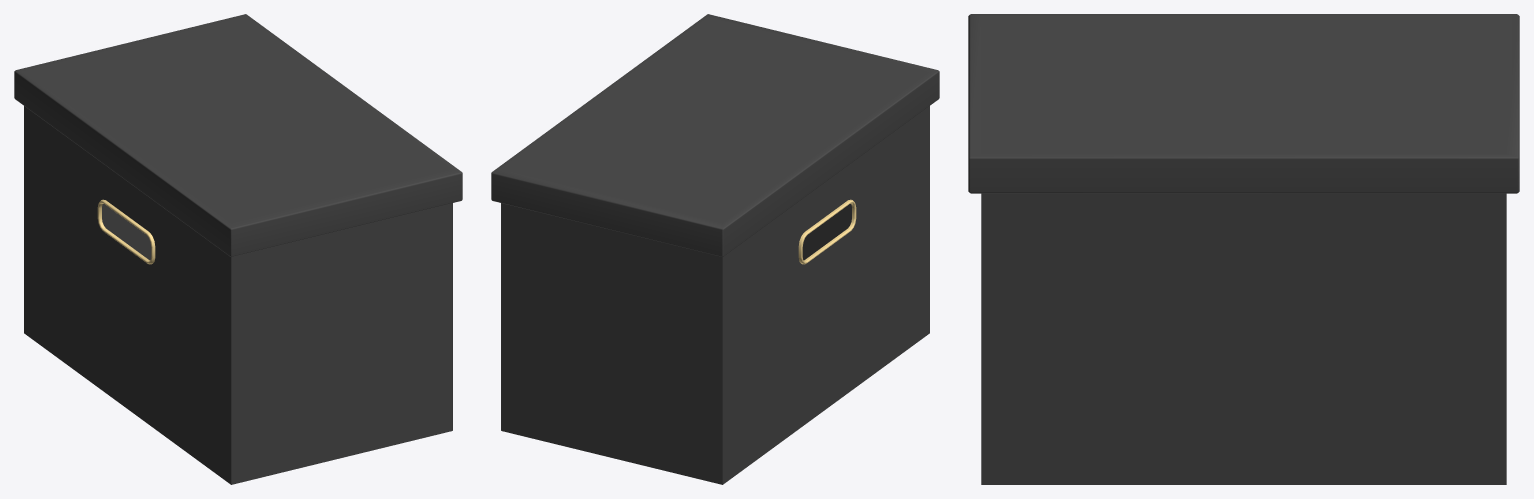
The model's file is SM_PaperBoxStorageSBlack.fbx.
The picture shows the model from 3 angles, left to right: view 1: azimuth 30°, elevation 25°; view 2: azimuth 150°, elevation 25°; view 3: azimuth 270°, elevation 25°; orthographic projection. The views are drawn at different scales.
Visible parts, largest first — view 1: SM_PaperBoxStorageSBlack_LOD0; view 2: SM_PaperBoxStorageSBlack_LOD0; view 3: SM_PaperBoxStorageSBlack_LOD0.
Boxes of the visible parts, x1,y1,x2,y2 form: SM_PaperBoxStorageSBlack_LOD0: (14,14,462,484); SM_PaperBoxStorageSBlack_LOD0: (491,14,939,484); SM_PaperBoxStorageSBlack_LOD0: (968,14,1519,484).
Size of the model in its own units: 32.89 by 53.22 by 35.27.
Materials: 1 (1 with a texture image).
